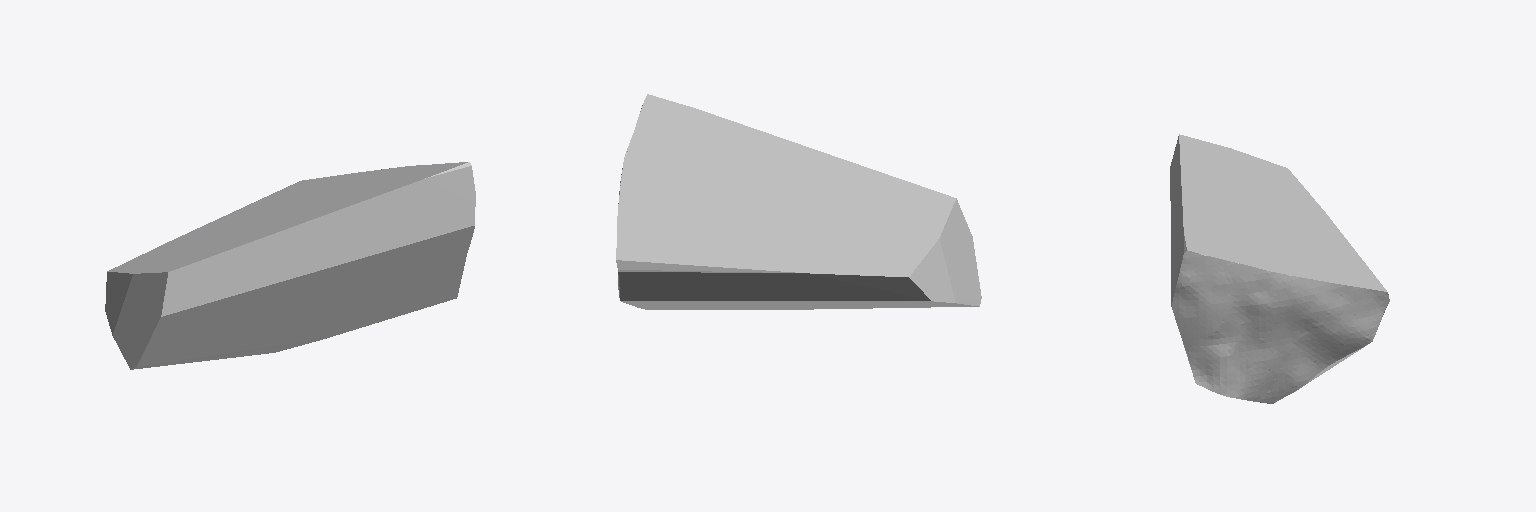
Rendered from low_cell_007.obj.
3 views of the same model, side by side, from view 1: azimuth 30°, elevation 25°; view 2: azimuth 150°, elevation 25°; view 3: azimuth 270°, elevation 25° (orthographic).
Visible parts, largest first — view 1: low_cell.007_low_cell.006; view 2: low_cell.007_low_cell.006; view 3: low_cell.007_low_cell.006.
Boxes of the visible parts, box(x1,y1,x2,y2) form: low_cell.007_low_cell.006: box(105, 162, 475, 369); low_cell.007_low_cell.006: box(616, 94, 981, 309); low_cell.007_low_cell.006: box(1170, 134, 1389, 403).
Bounding box in the file's own units: 1.15 × 0.5672 × 0.6462.